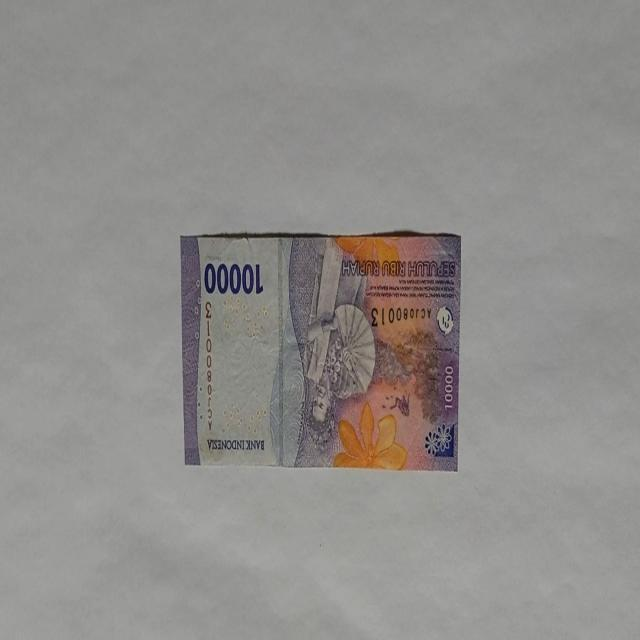sepuluh ribu rupiah: (179, 229, 462, 471), (202, 259, 264, 297)
